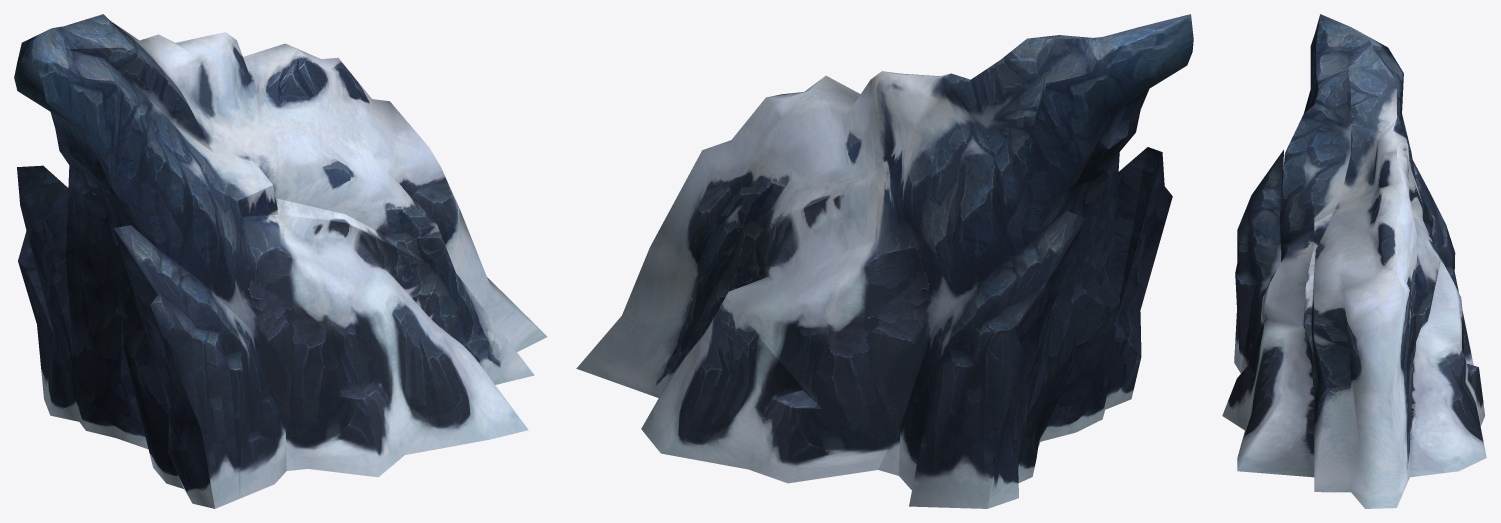
The model's file is Stone09.FBX.
3 renders of one model, left to right at view 1: azimuth 30°, elevation 25°; view 2: azimuth 150°, elevation 25°; view 3: azimuth 270°, elevation 25°, orthographic. The views are drawn at different scales.
Parts seen in each view (by area): view 1: Stone09; view 2: Stone09; view 3: Stone09.
Boxes of the visible parts, x1,y1,x2,y2 form: Stone09: [14, 14, 547, 508]; Stone09: [576, 14, 1193, 508]; Stone09: [1222, 14, 1486, 508].
Bounding box in the file's own units: 1321 × 999 × 778.
